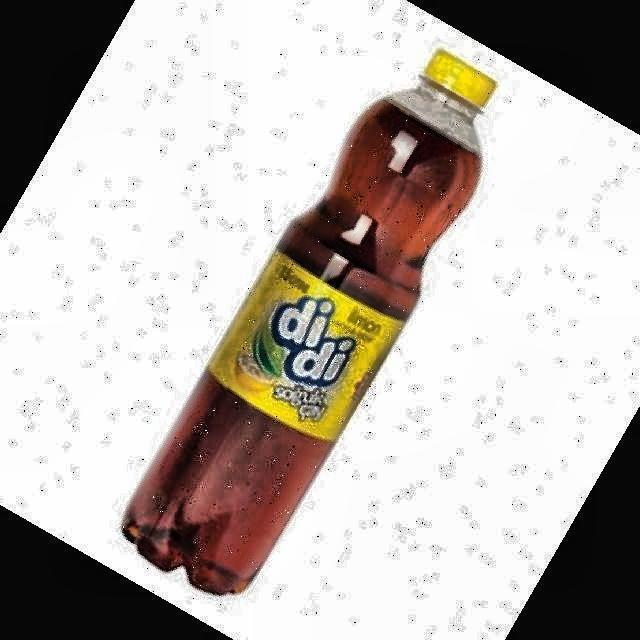plastic: (122, 51, 495, 594)
